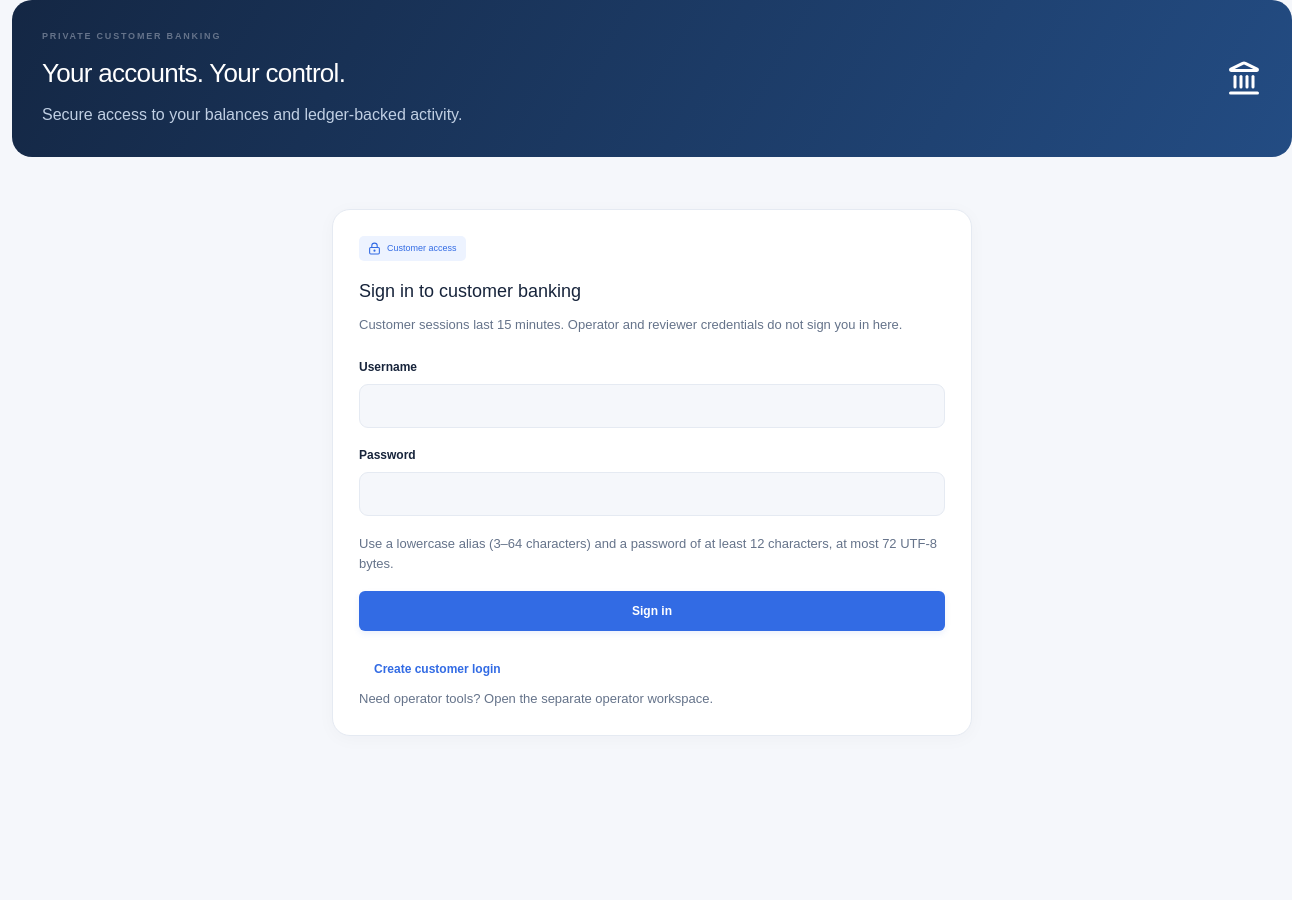
Scenario: customer identity and owned banking UI › clears private views on authentication failure and explicitly revokes on logout
Type "alpha_user" into the field labelled "Username".
click(652, 406); type("alpha_user")  # box [359,384,945,428]
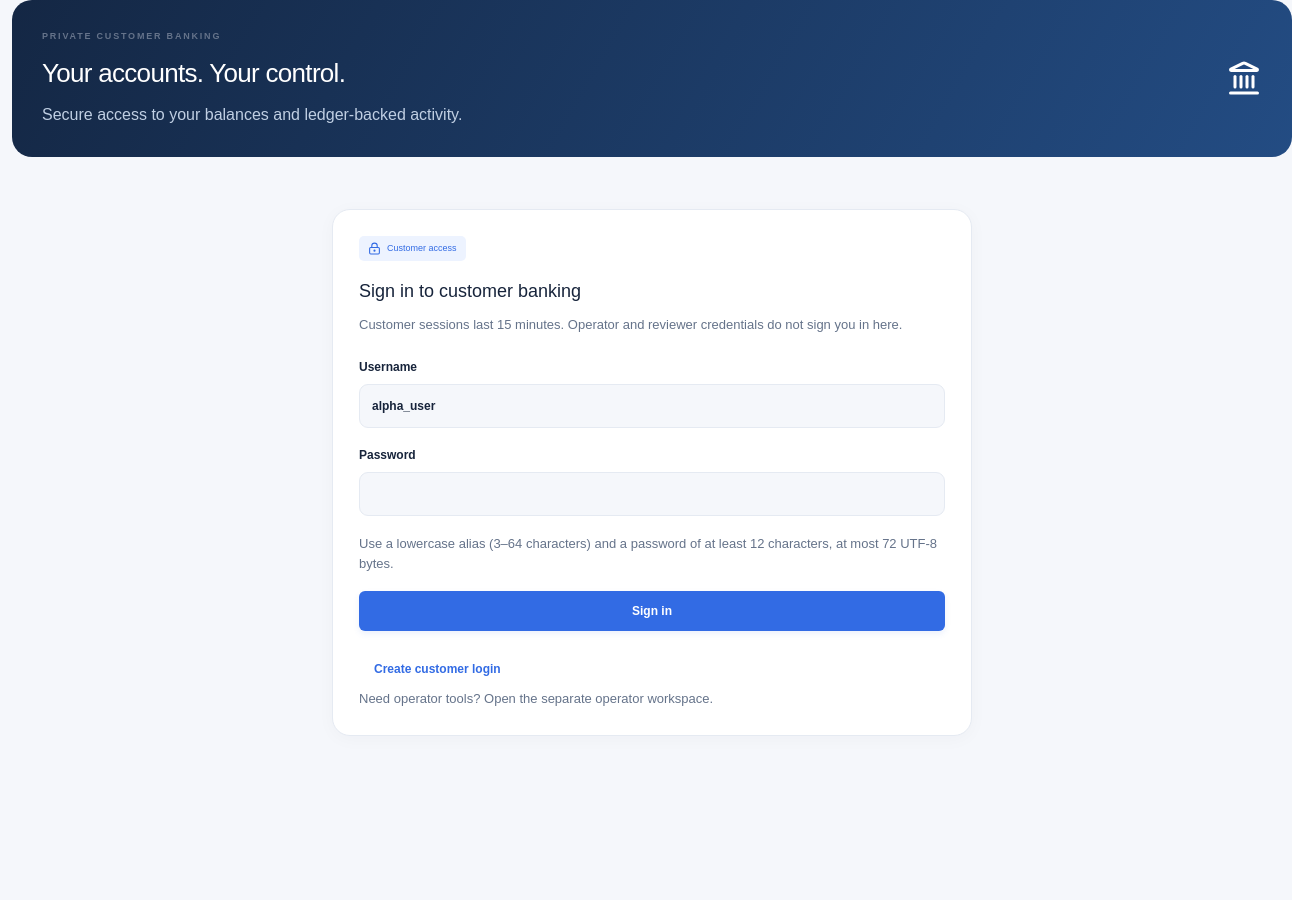
Type "test-password-portfolio" into the password field labelled "Password".
click(652, 494); type("test-password-portfolio")  # box [359,472,945,516]
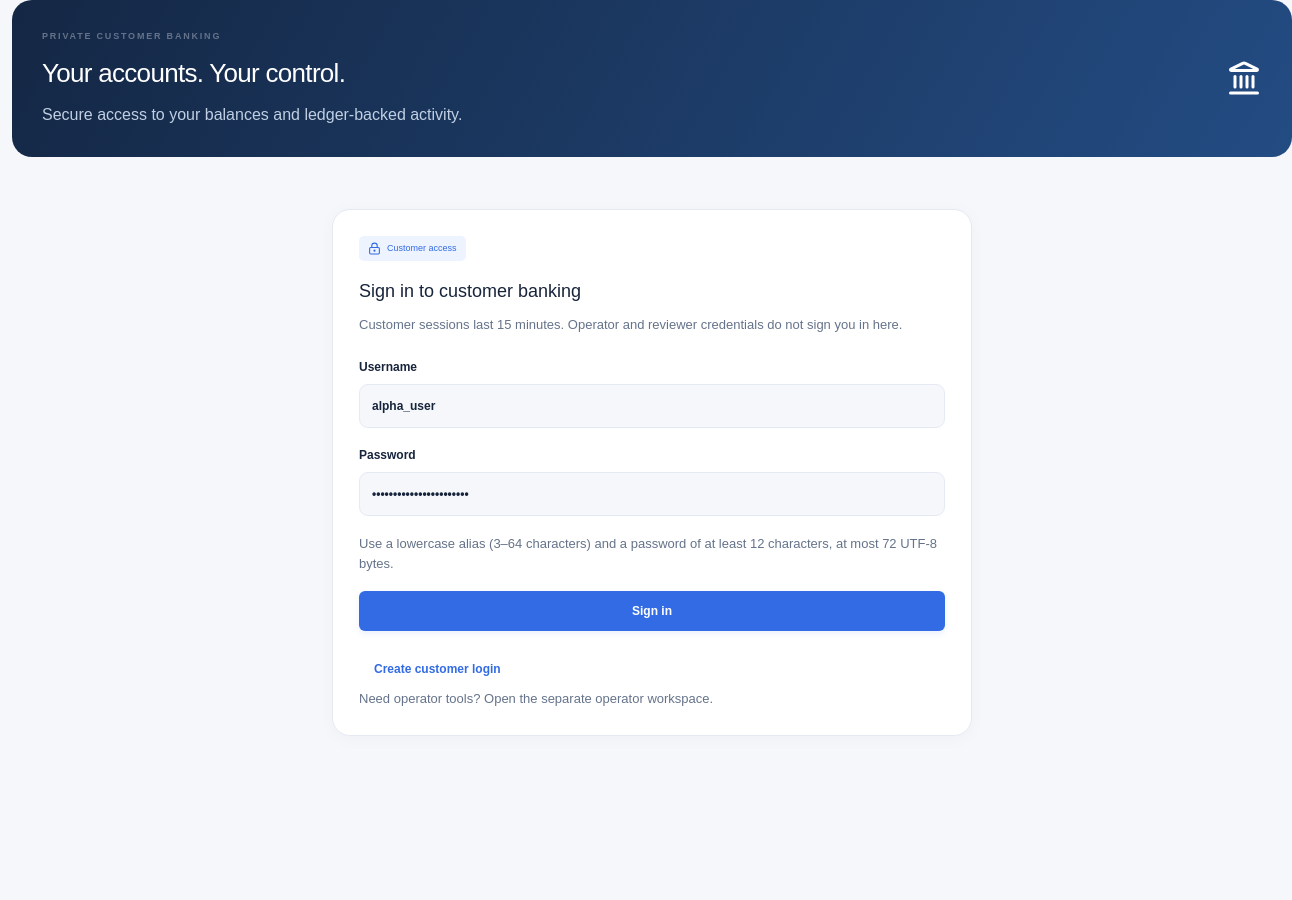
Click the button "Sign in".
click(652, 611)  # box [359,591,945,631]
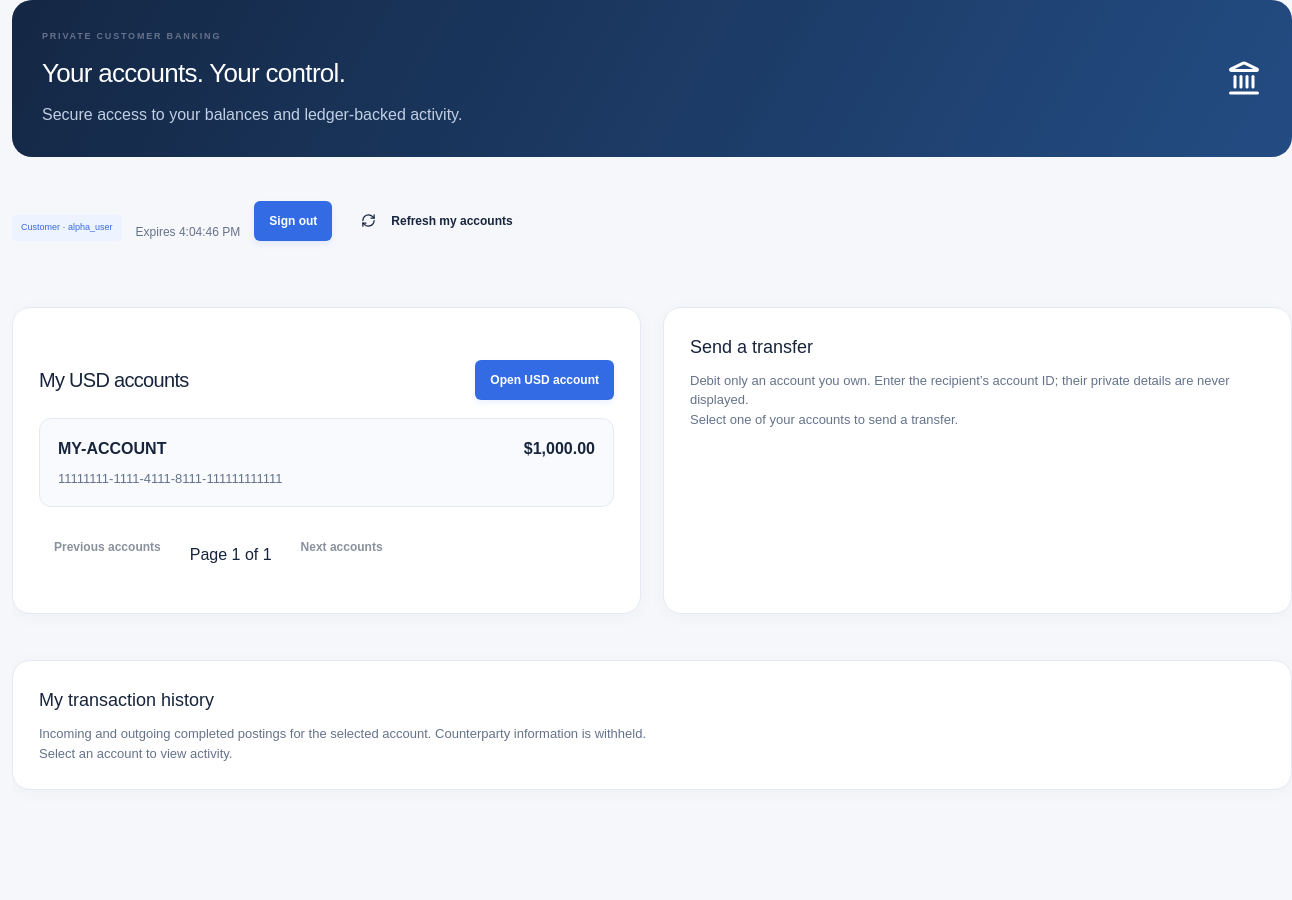
expect the text "Customer · alpha_user" is shown: met, box [12,215,122,240]
expect the text "MY-ACCOUNT" is shown: met, box [58,440,166,456]
Click the button "Refresh my accounts".
click(437, 220)  # box [346,200,528,240]
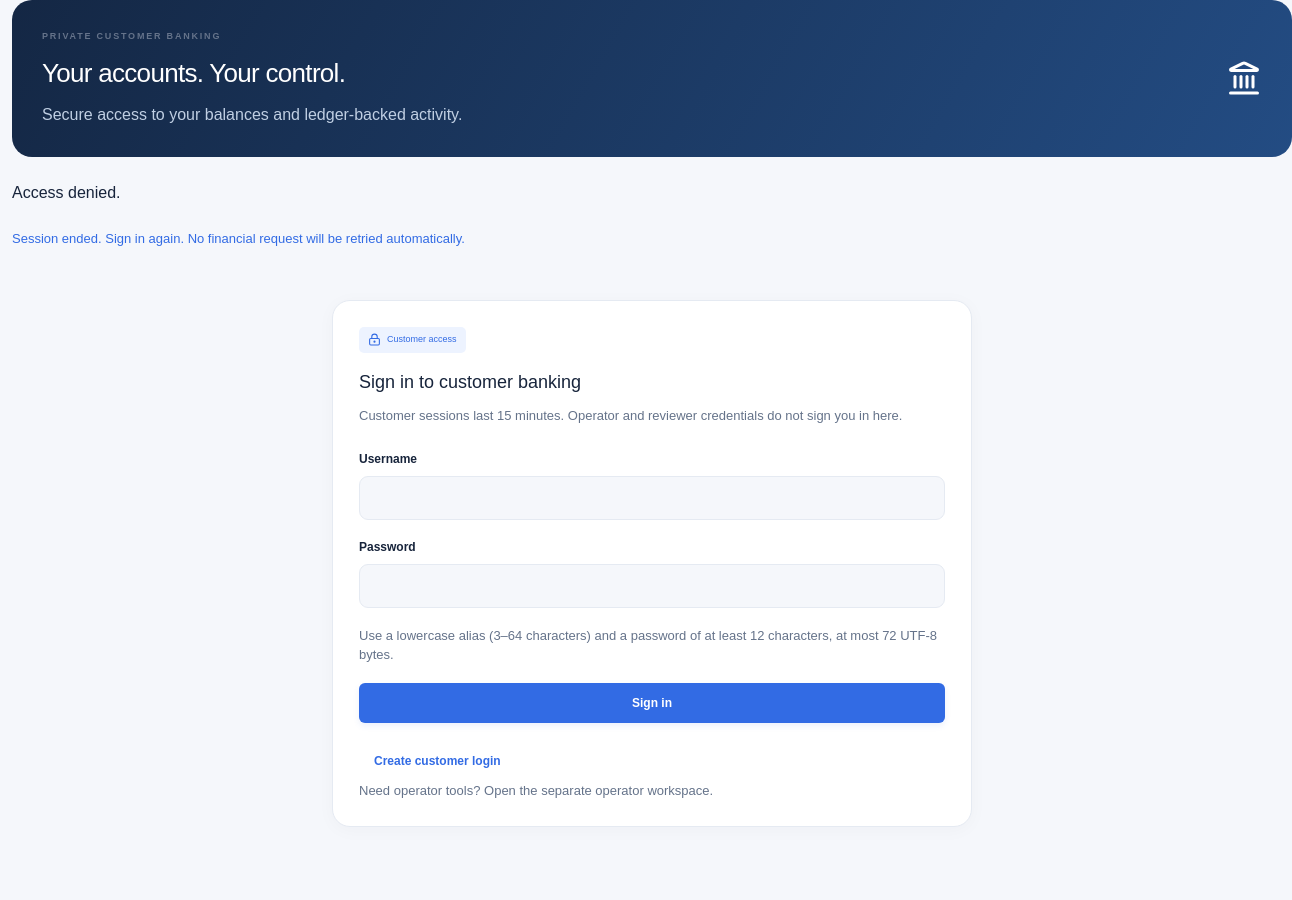
expect the button "Sign in" is shown: met, box [359,683,945,723]
expect the button "MY-ACCOUNT" is gone: met
